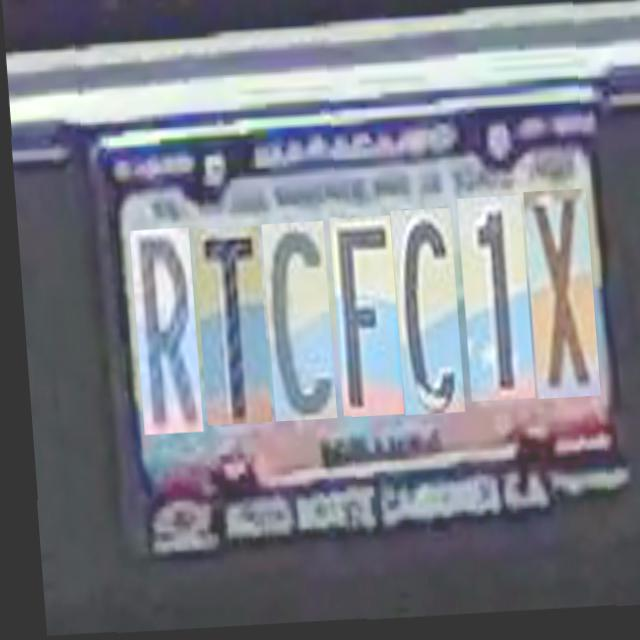1: (454, 200, 528, 406)
C: (387, 212, 458, 418), (258, 225, 330, 424)
F: (326, 219, 398, 420)
R: (126, 229, 196, 436)
T: (189, 229, 265, 428)
X: (520, 194, 594, 404)
